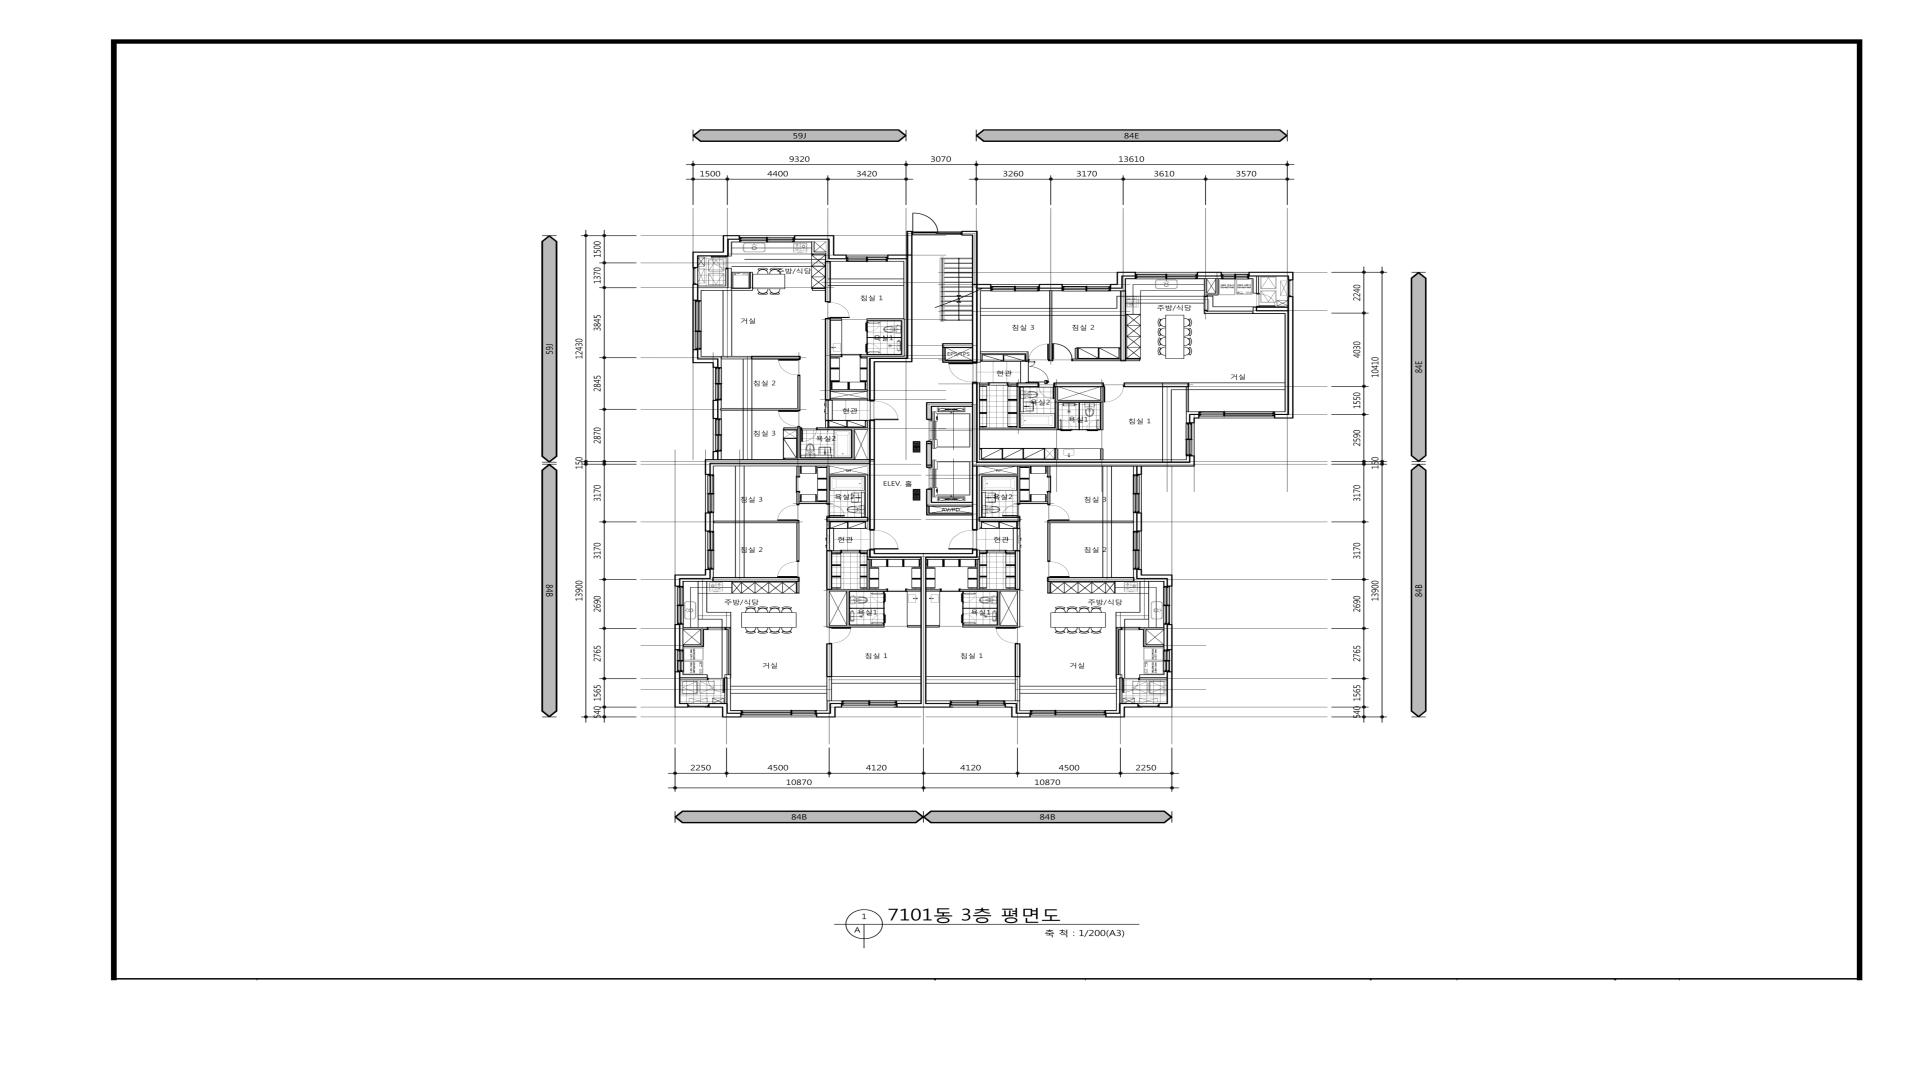door: (948, 363, 976, 382), (948, 530, 976, 550), (870, 401, 899, 419), (873, 530, 899, 550), (1029, 361, 1050, 382), (828, 302, 851, 318), (996, 628, 1018, 644), (1052, 343, 1072, 360), (1104, 385, 1124, 402), (1048, 505, 1069, 521), (778, 411, 799, 427), (778, 360, 799, 376), (1027, 344, 1048, 360), (1048, 562, 1069, 578), (777, 562, 798, 578), (829, 628, 851, 644), (777, 505, 798, 521), (1122, 679, 1139, 694), (708, 679, 725, 692), (828, 504, 845, 517), (1002, 504, 1018, 517), (802, 429, 818, 442), (711, 257, 728, 269), (1258, 294, 1275, 306), (1039, 386, 1054, 400), (865, 343, 881, 353), (865, 322, 881, 332), (870, 613, 886, 624), (961, 613, 977, 624), (1060, 419, 1073, 431), (1085, 419, 1098, 431), (870, 593, 886, 603), (961, 593, 976, 603), (825, 529, 831, 550), (795, 476, 800, 492), (1017, 529, 1021, 550), (988, 382, 1007, 386), (887, 588, 907, 592), (940, 588, 960, 592), (841, 353, 861, 357), (1121, 626, 1139, 630), (841, 550, 860, 554), (707, 626, 725, 630), (1204, 295, 1208, 311), (1047, 476, 1051, 491), (825, 401, 828, 421), (986, 550, 1006, 553)
wall: (869, 550, 977, 708), (869, 231, 911, 401), (704, 459, 876, 475), (972, 456, 1195, 467), (1275, 297, 1294, 419), (972, 284, 992, 363), (692, 235, 740, 268), (795, 235, 847, 260), (961, 231, 978, 284), (926, 489, 972, 506), (926, 402, 972, 419), (674, 570, 711, 585), (1137, 570, 1172, 585), (674, 673, 688, 708), (1159, 673, 1174, 708), (692, 349, 719, 368), (1105, 703, 1138, 717), (1120, 290, 1126, 361), (709, 703, 741, 717), (869, 464, 876, 530), (1110, 272, 1135, 289), (972, 382, 977, 462), (816, 703, 841, 717), (1005, 703, 1030, 717), (1249, 272, 1294, 280), (1047, 578, 1134, 582), (712, 578, 799, 582), (1125, 382, 1189, 388), (972, 465, 977, 530), (720, 407, 800, 411), (725, 628, 732, 675), (824, 356, 831, 401), (869, 419, 876, 459), (825, 550, 832, 589), (1055, 382, 1104, 388), (824, 318, 831, 356), (1116, 628, 1121, 674), (1014, 644, 1021, 678), (1047, 521, 1133, 524), (713, 521, 799, 524), (978, 517, 1021, 522), (827, 517, 869, 522), (825, 644, 832, 676), (825, 261, 831, 302), (1015, 550, 1021, 589), (980, 427, 1059, 430), (1197, 272, 1222, 280), (752, 356, 800, 360), (1050, 290, 1052, 361), (926, 440, 932, 468), (1255, 306, 1288, 311), (674, 624, 680, 650), (861, 353, 905, 357), (960, 589, 1021, 592), (942, 343, 972, 348), (1017, 388, 1021, 427), (963, 625, 1018, 628), (1047, 524, 1051, 560), (1017, 467, 1021, 504), (825, 591, 829, 628), (829, 625, 885, 628), (901, 318, 905, 353), (1167, 624, 1172, 650), (847, 591, 851, 625), (818, 427, 869, 430), (866, 318, 901, 322), (712, 400, 719, 419), (1204, 311, 1253, 314), (1073, 359, 1121, 361), (981, 351, 1029, 353), (1039, 284, 1063, 289), (796, 376, 800, 407), (827, 676, 832, 700), (796, 427, 800, 459), (704, 513, 711, 531), (866, 559, 870, 589), (721, 356, 752, 360), (1015, 678, 1021, 700), (1017, 382, 1039, 388), (1058, 400, 1101, 402), (692, 284, 699, 301), (1100, 402, 1104, 430), (978, 473, 1017, 476), (831, 389, 869, 392), (796, 524, 799, 562), (827, 465, 829, 504), (1055, 402, 1059, 427), (724, 678, 728, 703), (1018, 591, 1021, 628), (1137, 513, 1142, 531), (887, 255, 906, 260), (1185, 388, 1189, 411), (1189, 414, 1199, 423), (977, 559, 980, 589), (825, 589, 886, 591), (749, 272, 753, 291), (728, 268, 732, 287), (852, 430, 855, 459), (1139, 678, 1167, 680), (680, 678, 708, 680), (799, 501, 827, 504), (1021, 501, 1047, 504), (945, 360, 972, 363), (1255, 277, 1259, 294), (732, 287, 749, 291), (1204, 280, 1208, 297), (700, 629, 704, 645), (683, 628, 707, 630), (1055, 388, 1059, 402), (1047, 491, 1051, 505), (683, 645, 704, 647), (811, 241, 815, 255), (829, 473, 869, 475), (831, 398, 869, 400), (1143, 629, 1146, 647), (1146, 645, 1164, 647), (1137, 465, 1142, 475), (725, 269, 728, 287), (1047, 582, 1051, 593), (998, 591, 1000, 625), (964, 608, 998, 609), (712, 452, 719, 459), (851, 608, 884, 609), (1100, 448, 1104, 459), (1101, 386, 1104, 402), (1126, 359, 1141, 361), (943, 348, 945, 363), (832, 550, 841, 554), (1006, 550, 1015, 554), (1007, 382, 1017, 386), (1047, 467, 1051, 476), (927, 589, 940, 592), (1116, 674, 1122, 679), (812, 289, 825, 291), (1079, 402, 1080, 429), (699, 286, 725, 287), (907, 625, 920, 628), (927, 625, 940, 628), (796, 492, 799, 505), (1216, 280, 1218, 293), (783, 427, 796, 430), (1139, 628, 1163, 629), (1017, 521, 1021, 529), (796, 582, 799, 593), (815, 252, 827, 255), (1207, 293, 1218, 295), (1055, 448, 1058, 459), (1075, 348, 1077, 359), (796, 465, 799, 476), (831, 355, 841, 357), (980, 550, 986, 554), (827, 522, 831, 529), (860, 550, 868, 553), (980, 382, 988, 385), (907, 589, 920, 591), (825, 421, 828, 427), (1073, 429, 1085, 430), (884, 603, 885, 613), (963, 603, 964, 613), (866, 332, 868, 343), (884, 624, 885, 625), (868, 338, 901, 338)
window: (741, 709, 816, 717), (1030, 709, 1105, 717), (911, 212, 939, 233), (1199, 411, 1275, 418), (1135, 272, 1197, 280), (692, 301, 702, 349), (740, 235, 795, 243), (949, 700, 1005, 708), (1063, 284, 1110, 291), (992, 284, 1039, 291), (841, 700, 897, 707), (1163, 585, 1172, 624), (1133, 531, 1142, 570), (1133, 475, 1142, 513), (705, 531, 715, 570), (675, 585, 684, 624), (847, 255, 887, 262), (1185, 423, 1195, 456), (713, 419, 723, 452), (705, 475, 713, 513), (713, 368, 721, 400), (674, 650, 684, 673), (1163, 650, 1172, 673), (1222, 272, 1249, 278), (1138, 703, 1159, 708), (688, 703, 709, 708), (1288, 280, 1294, 297), (939, 231, 961, 235), (692, 268, 698, 284)
